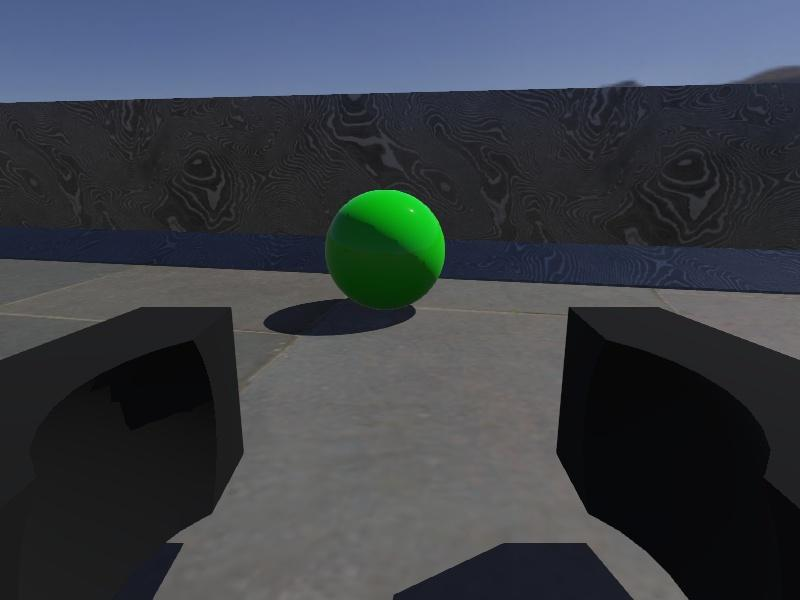green ball: (324, 188, 446, 312)
